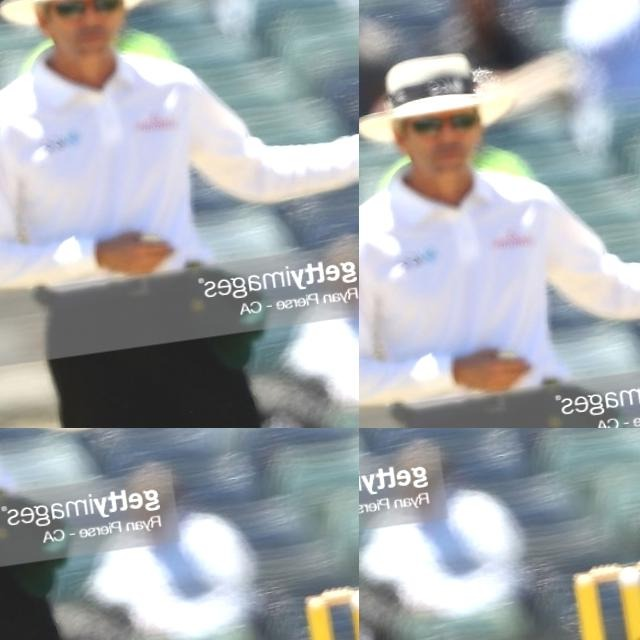No_Ball: (0, 428, 334, 640)
Out: (414, 0, 640, 273)
Six: (203, 0, 359, 219)
Wide: (359, 428, 635, 599)
